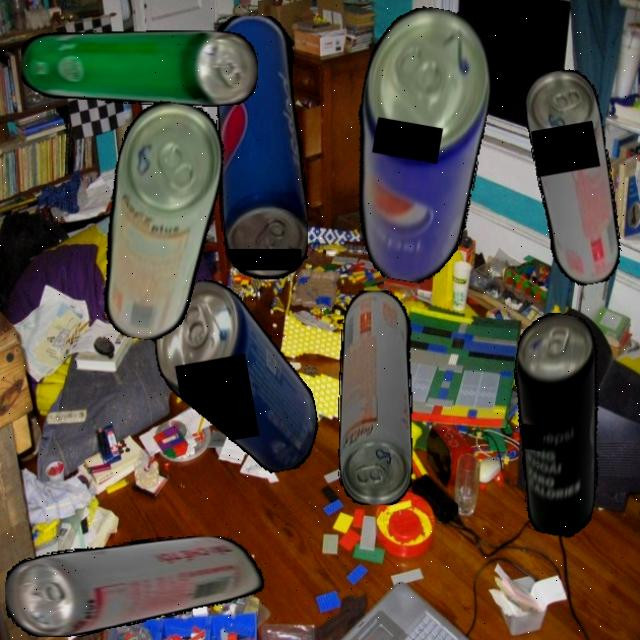debris: (332, 0, 503, 290), (145, 265, 325, 489), (87, 95, 232, 348), (488, 308, 624, 540), (5, 535, 264, 637), (519, 65, 630, 290), (215, 16, 308, 280), (20, 30, 258, 106), (338, 289, 412, 505)
